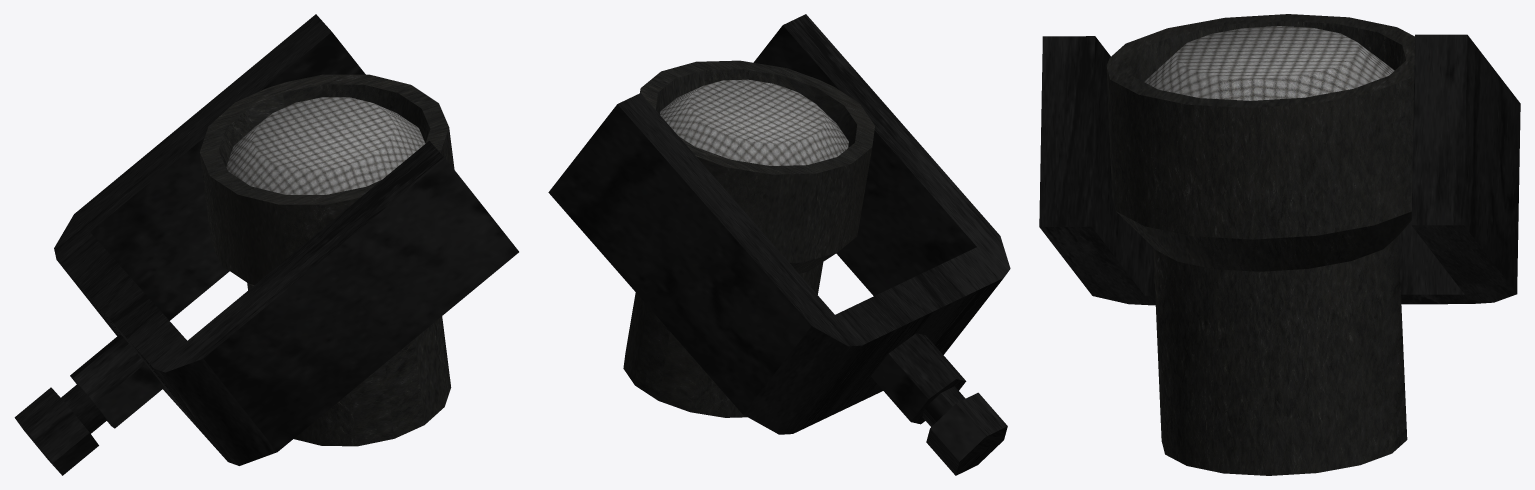
The model's file is Stage Light.fbx.
3 views of the same model, side by side, from view 1: azimuth 30°, elevation 25°; view 2: azimuth 150°, elevation 25°; view 3: azimuth 270°, elevation 25° (orthographic). The views are drawn at different scales.
Parts seen in each view (by area): view 1: Stage Light; view 2: Stage Light; view 3: Stage Light.
Boxes of the visible parts, x1,y1,x2,y2 form: Stage Light: [14, 14, 518, 475]; Stage Light: [548, 14, 1010, 475]; Stage Light: [1039, 14, 1520, 475].
Size of the model in its own units: 27.16 by 21.17 by 20.69.
